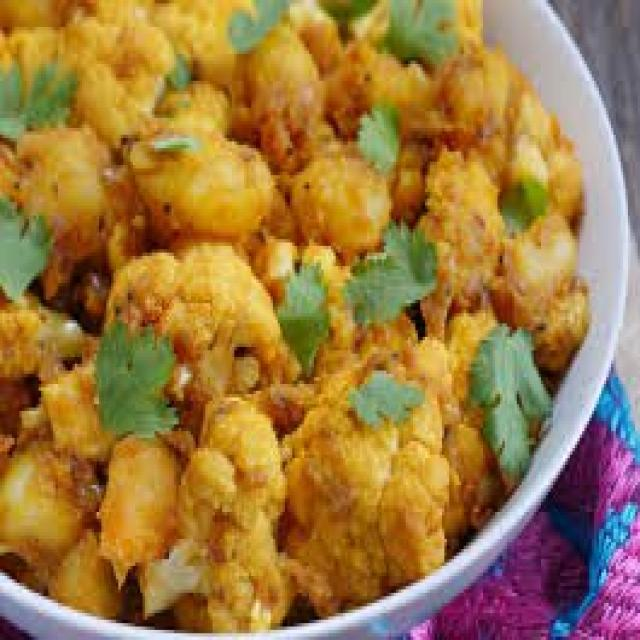Aloo Gobi: (1, 39, 496, 590)
